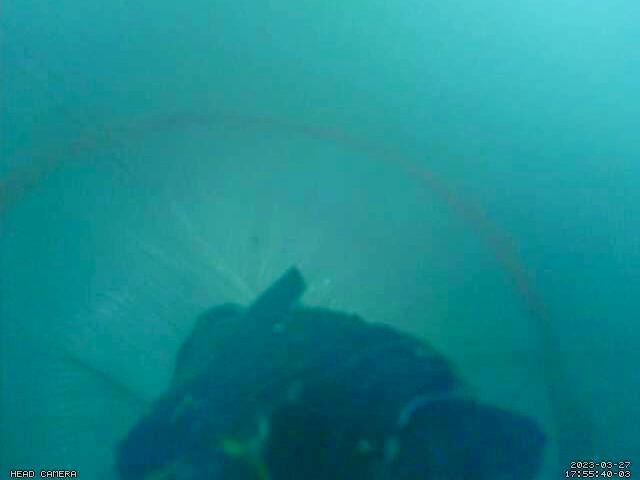head: (0, 112, 585, 480)
